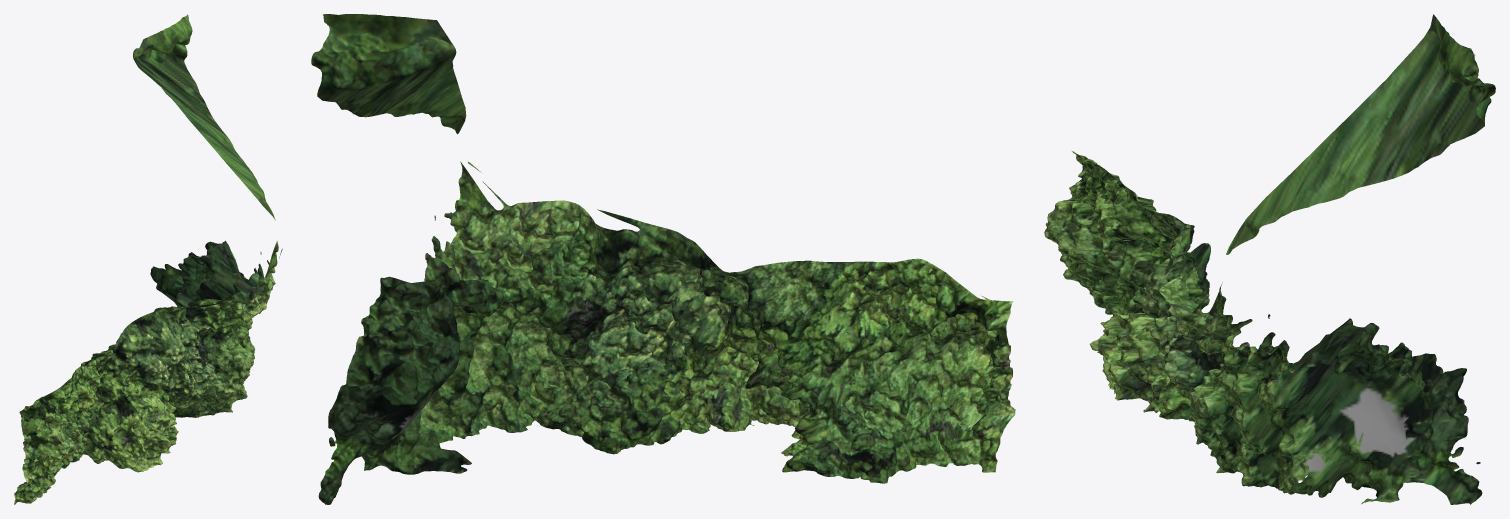
Rendered from Tile_+010_+031.fbx.
3 views of the same model, side by side, from view 1: azimuth 30°, elevation 25°; view 2: azimuth 150°, elevation 25°; view 3: azimuth 270°, elevation 25° (orthographic). The views are drawn at different scales.
Visible parts, largest first — view 1: DefaultName; view 2: DefaultName; view 3: DefaultName.
Boxes of the visible parts, x1,y1,x2,y2 form: DefaultName: [14, 14, 282, 504]; DefaultName: [311, 14, 1015, 504]; DefaultName: [1044, 14, 1495, 504].
Size of the model in its own units: 22.54 by 22.54 by 20.5.
